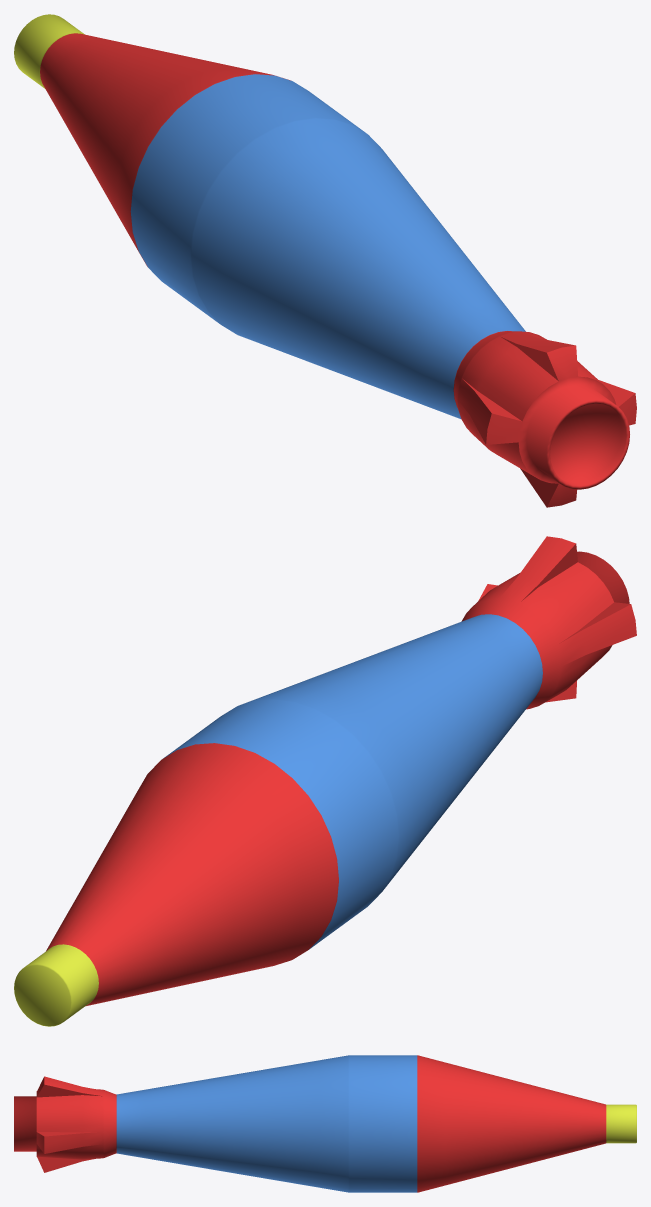
The model's file is dan brka.fbx.
3 renders of one model, top to bottom at view 1: azimuth 30°, elevation 25°; view 2: azimuth 150°, elevation 25°; view 3: azimuth 270°, elevation 25°, orthographic. The views are drawn at different scales.
Parts seen in each view (by area): view 1: rocket; view 2: rocket; view 3: rocket.
Boxes of the visible parts, box(x1,y1,x2,y2) form: rocket: box(14, 14, 636, 507); rocket: box(14, 536, 636, 1026); rocket: box(14, 1055, 636, 1192).
Bounding box in the file's own units: 32.2 × 32.2 × 146.
